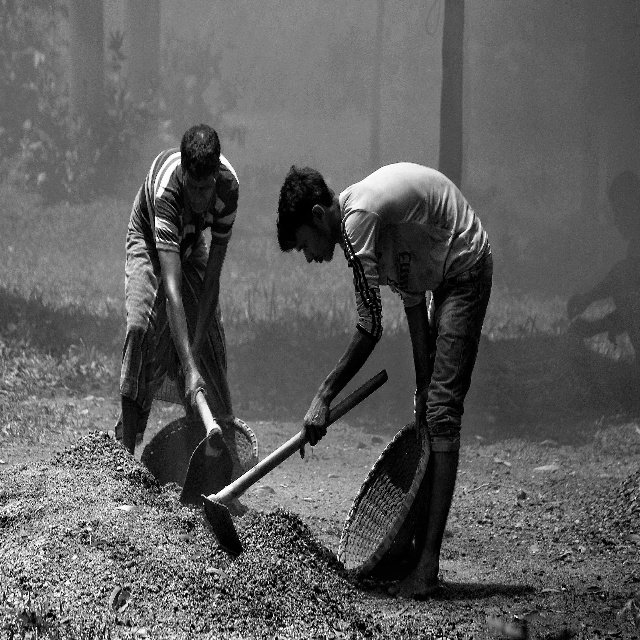Sin_guantes: (297, 388, 329, 460), (185, 365, 210, 422), (413, 386, 429, 443), (179, 341, 202, 378)
